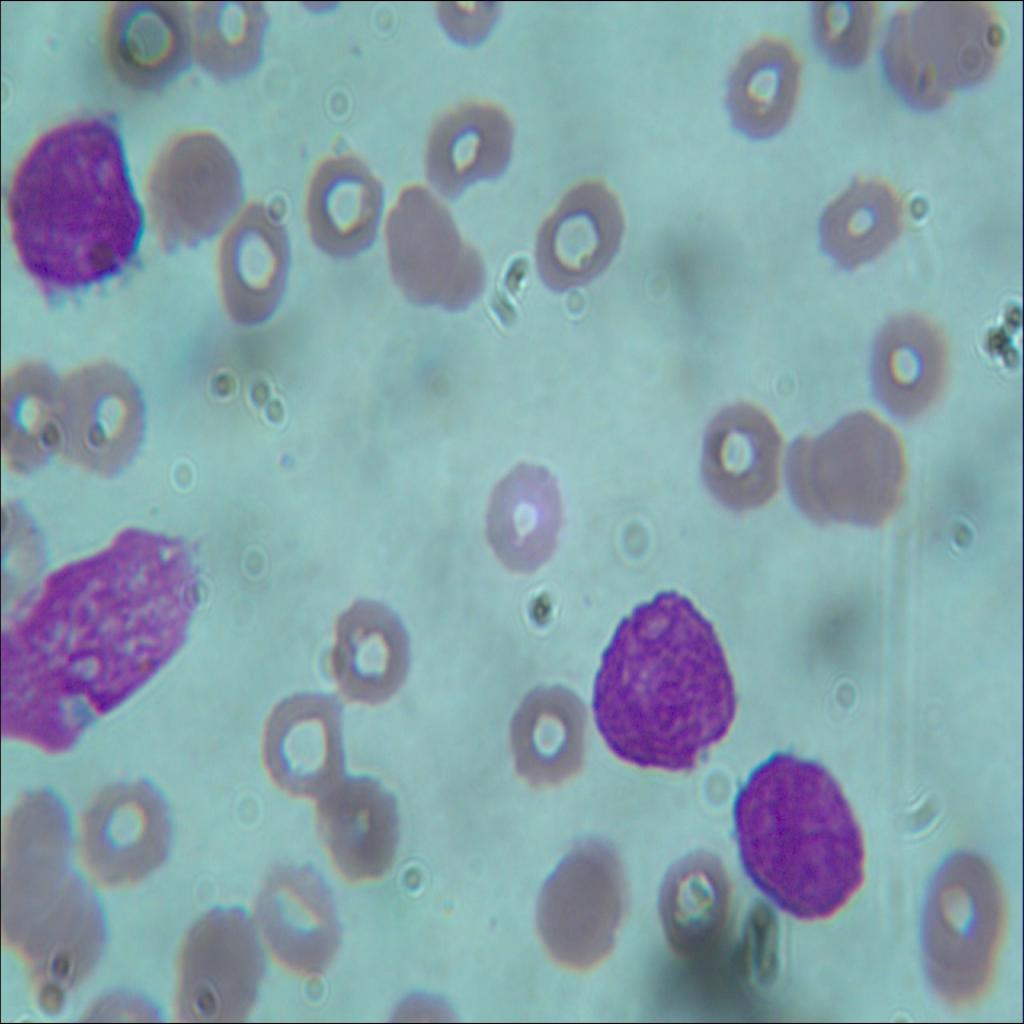Eritrosit: (918, 838, 1010, 996), (534, 851, 643, 977), (502, 678, 598, 808), (414, 97, 526, 202), (180, 898, 274, 1023), (482, 448, 566, 586), (388, 186, 473, 314), (814, 412, 908, 527), (155, 115, 242, 235), (810, 171, 910, 275), (326, 589, 418, 702), (696, 397, 782, 515), (14, 882, 106, 989), (58, 375, 151, 479), (256, 687, 346, 794), (252, 856, 338, 964), (866, 314, 956, 417), (541, 181, 624, 290), (215, 207, 289, 327), (102, 0, 199, 89), (321, 772, 398, 879), (906, 5, 998, 92), (726, 35, 796, 148), (661, 852, 729, 962), (0, 791, 61, 911), (88, 790, 162, 884), (0, 364, 70, 462), (312, 150, 378, 252), (194, 0, 272, 82), (806, 0, 873, 68)
Limfoblast: (586, 588, 740, 774), (4, 100, 142, 299), (740, 752, 866, 924)
